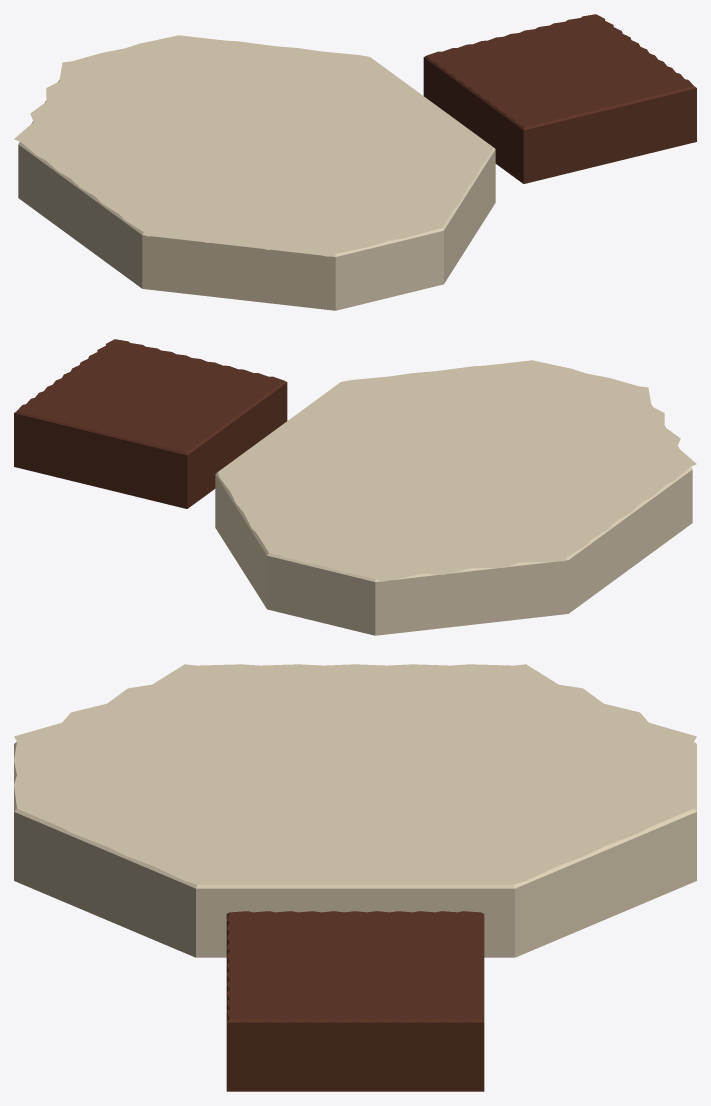
File: mahsulot.glb
3 views of the same model, one above another, from view 1: azimuth 30°, elevation 25°; view 2: azimuth 150°, elevation 25°; view 3: azimuth 270°, elevation 25° (orthographic). The views are drawn at different scales.
Parts seen in each view (by area): view 1: mahsulot_A, mahsulot_B; view 2: mahsulot_A, mahsulot_B; view 3: mahsulot_A, mahsulot_B.
Part boxes in pixels (left/top/right/bottom): mahsulot_A: left=14, top=35, right=495, bottom=310; mahsulot_B: left=423, top=14, right=696, bottom=183; mahsulot_A: left=215, top=360, right=696, bottom=635; mahsulot_B: left=14, top=339, right=287, bottom=508; mahsulot_A: left=14, top=664, right=696, bottom=957; mahsulot_B: left=226, top=911, right=484, bottom=1091.
Size of the model in its own units: 0.425 by 0.04 by 0.345.
